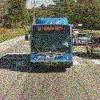buses: (26, 15, 76, 69)
